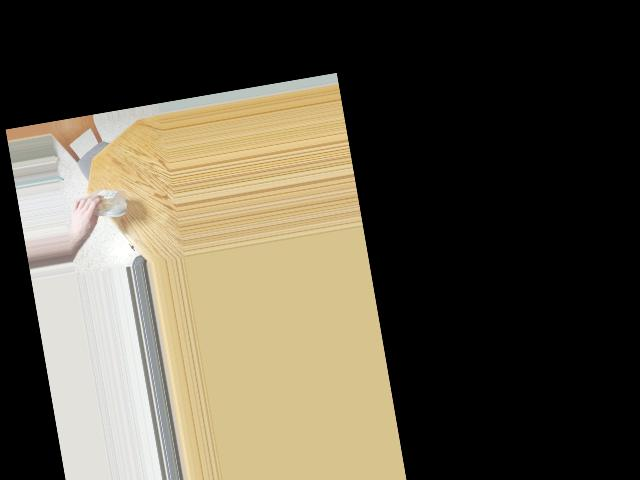cheese: (78, 186, 121, 225)
